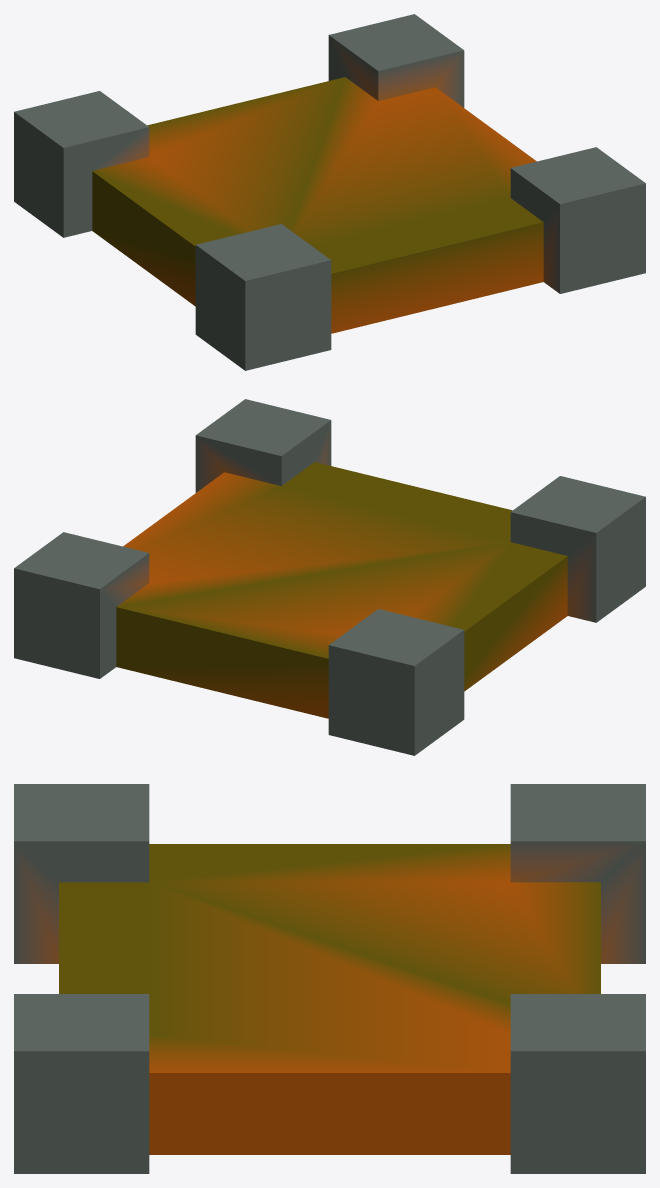
The model's file is BasicWoodPedestal.fbx.
3 renders of one model, top to bottom at view 1: azimuth 30°, elevation 25°; view 2: azimuth 150°, elevation 25°; view 3: azimuth 270°, elevation 25°, orthographic. The views are drawn at different scales.
Parts seen in each view (by area): view 1: BasicWoodPedestal; view 2: BasicWoodPedestal; view 3: BasicWoodPedestal.
Boxes of the visible parts, x1,y1,x2,y2 form: BasicWoodPedestal: [14, 14, 645, 370]; BasicWoodPedestal: [14, 399, 645, 755]; BasicWoodPedestal: [14, 784, 645, 1173].
Size of the model in its own units: 140 by 30 by 140.
